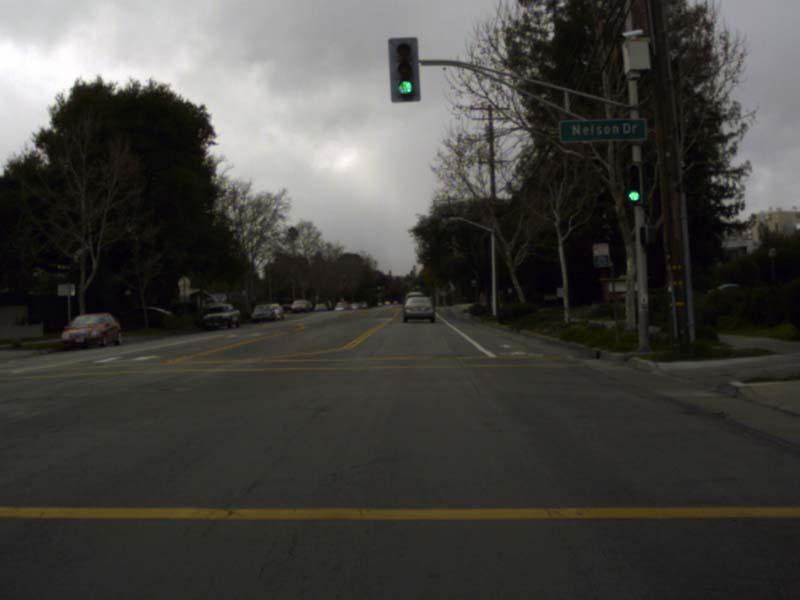Green: (388, 38, 421, 100), (626, 164, 641, 203), (411, 282, 415, 289)
